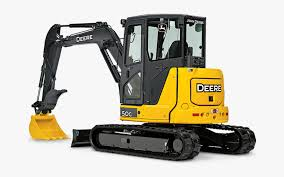excavator: (25, 12, 255, 162)
